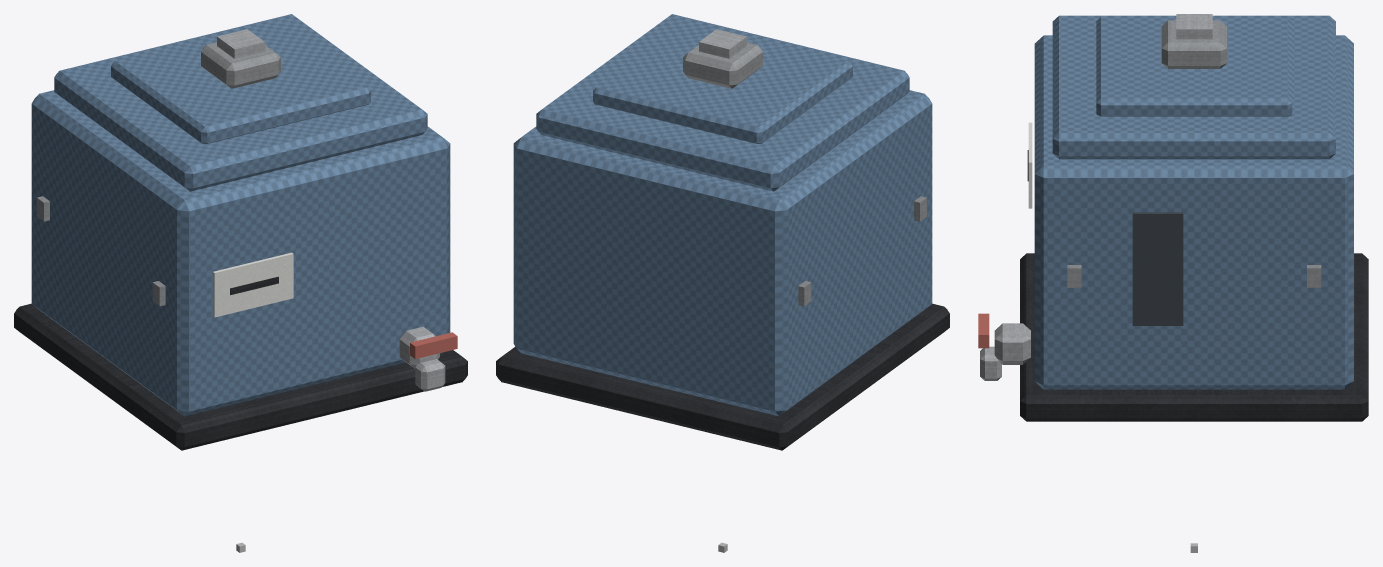
Rendered from rv_furn_water_tank.gltf.
The picture shows the model from 3 angles, left to right: view 1: azimuth 30°, elevation 25°; view 2: azimuth 150°, elevation 25°; view 3: azimuth 270°, elevation 25°; orthographic projection. The views are drawn at different scales.
Visible parts, largest first — view 1: RV_Furn_WaterTank; view 2: RV_Furn_WaterTank; view 3: RV_Furn_WaterTank.
Part boxes in pixels (<box>): RV_Furn_WaterTank: <box>14,14,467,552</box>; RV_Furn_WaterTank: <box>496,14,949,552</box>; RV_Furn_WaterTank: <box>978,14,1368,552</box>.
Size of the model in its own units: 0.96 by 1.61 by 1.08.
Materials: 8 (7 with a texture image).
